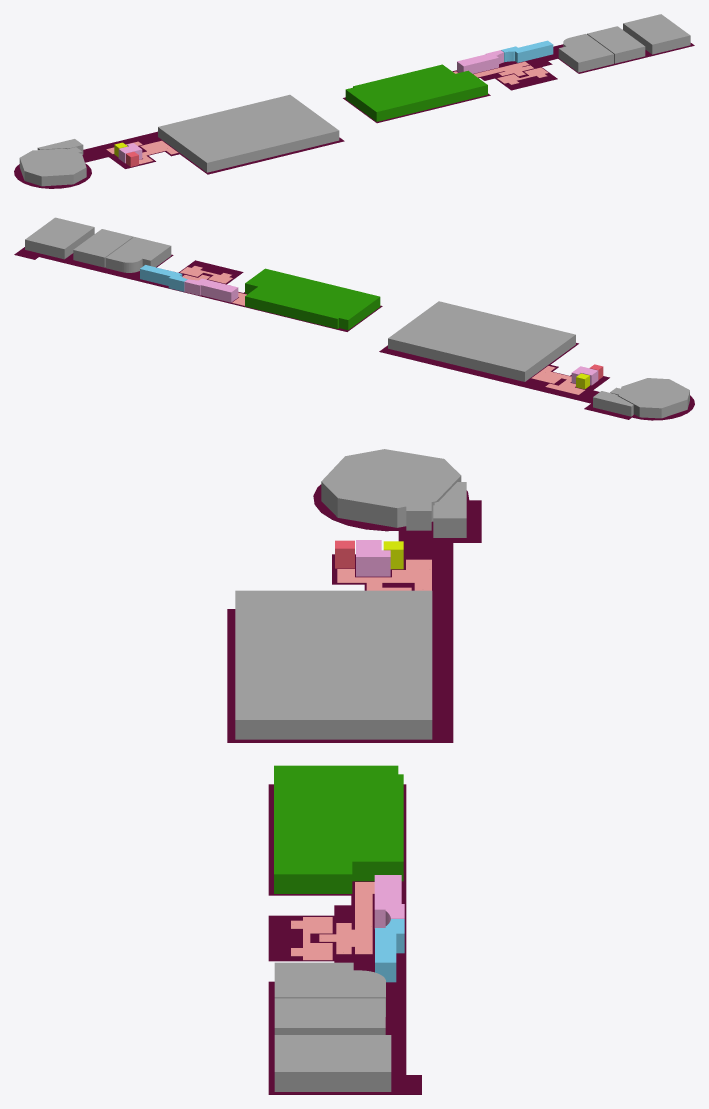
File: njc-b2-v4-28-4.glb
3 views of the same model, one above another, from view 1: azimuth 30°, elevation 25°; view 2: azimuth 150°, elevation 25°; view 3: azimuth 270°, elevation 25° (orthographic). The views are drawn at different scales.
Parts seen in each view (by area): view 1: None, Gym, Base, Foot, Mtoilet, Ftoilet; view 2: None, Gym, Base, Foot, Ftoilet, Mtoilet; view 3: None, Base, Gym, Foot, Mtoilet, Ftoilet, Ftoilet.001.
Part boxes in pixels (bbox=[...]): None: bbox=[19, 14, 690, 186]; Gym: bbox=[345, 64, 487, 121]; Base: bbox=[14, 43, 694, 188]; Foot: bbox=[106, 61, 548, 164]; Mtoilet: bbox=[501, 40, 553, 62]; Ftoilet: bbox=[457, 50, 503, 73]; None: bbox=[25, 217, 689, 418]; Gym: bbox=[245, 268, 380, 330]; Base: bbox=[14, 247, 694, 420]; Foot: bbox=[180, 266, 584, 394]; Ftoilet: bbox=[184, 278, 238, 302]; Mtoilet: bbox=[140, 265, 187, 291]; None: bbox=[235, 449, 466, 1091]; Base: bbox=[227, 484, 481, 1094]; Gym: bbox=[274, 765, 403, 893]; Foot: bbox=[291, 559, 431, 960]; Mtoilet: bbox=[375, 919, 404, 982]; Ftoilet: bbox=[374, 875, 404, 928]; Ftoilet.001: bbox=[356, 540, 390, 576].
Size of what is drawn, in the model's own units: 13.59 by 0.2 by 2.32.
